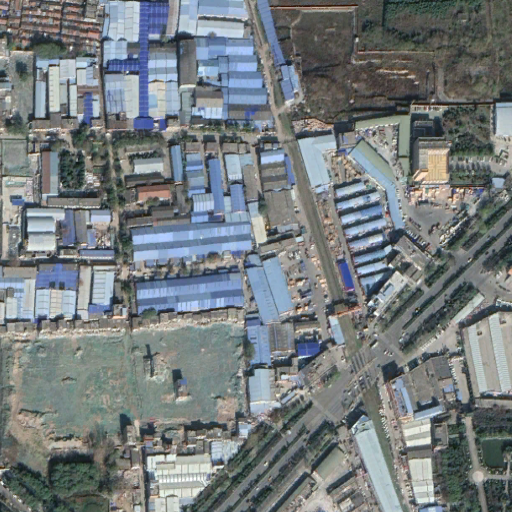cw: (7, 323, 247, 439)
